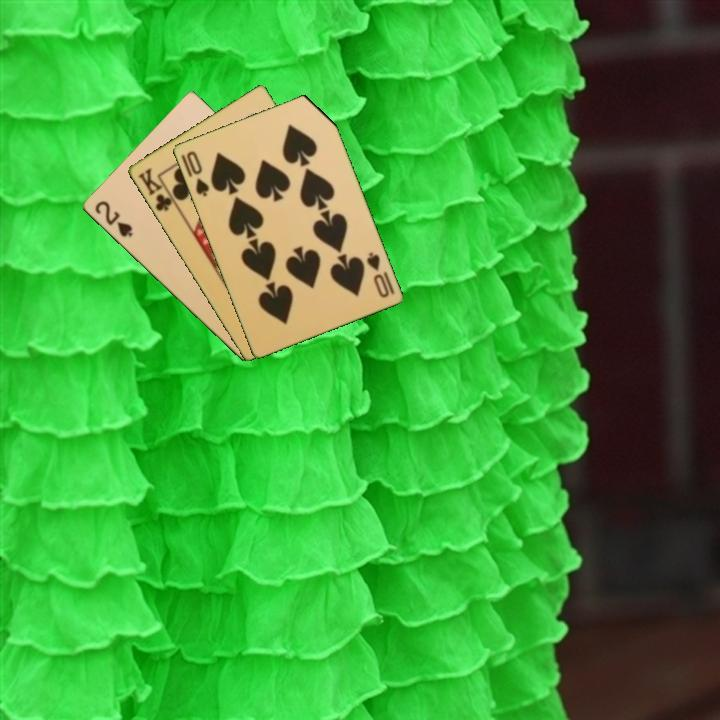10s: (363, 248, 397, 301), (182, 147, 212, 199)
2s: (91, 197, 135, 240)
Kc: (133, 164, 179, 214)
